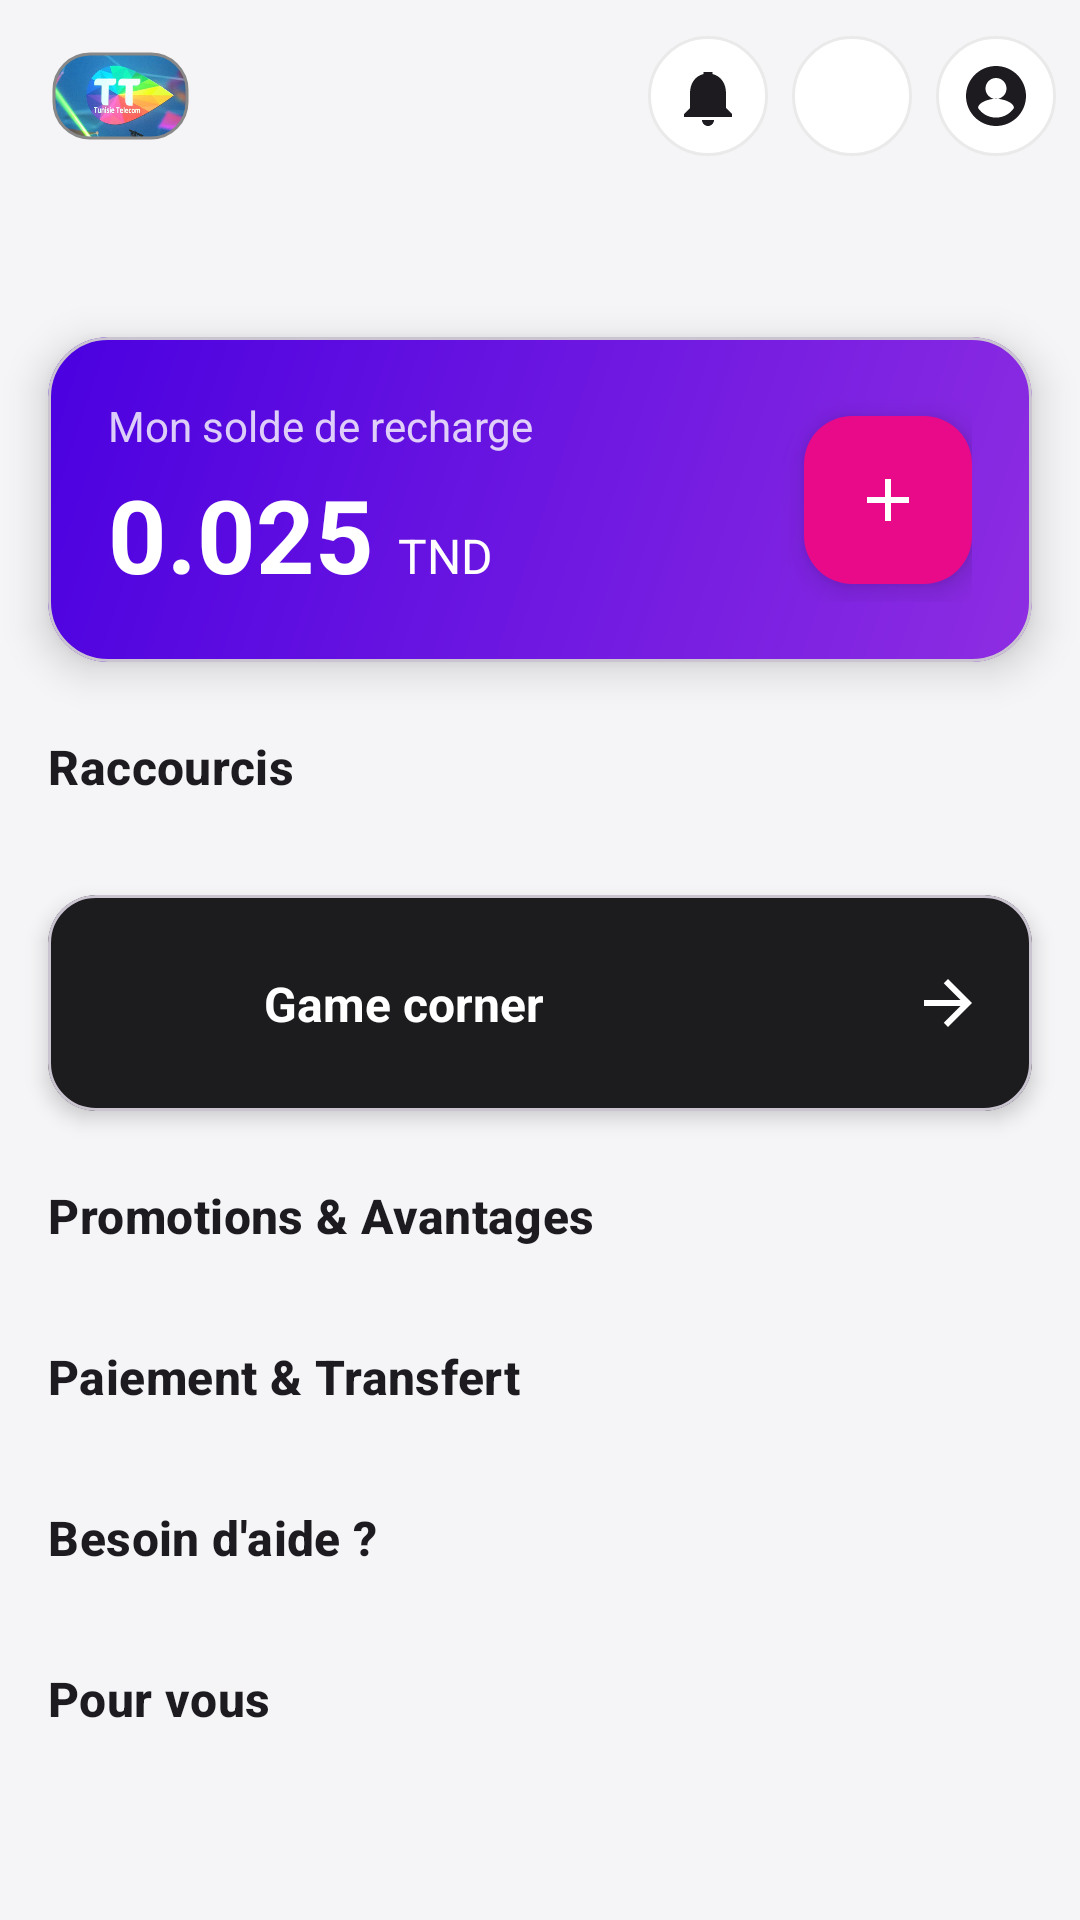

Icons on this 1080x1920 Android screen, each with the point to tap as [x,y]:
Notifications: [708,99]
Profil: [996,96]
Recharge rapide: [888,500]
Voir plus: [948,1003]
